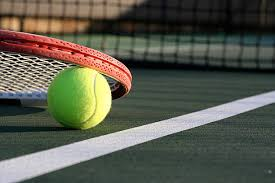tennis racket: (1, 28, 134, 110), (1, 42, 135, 110)
